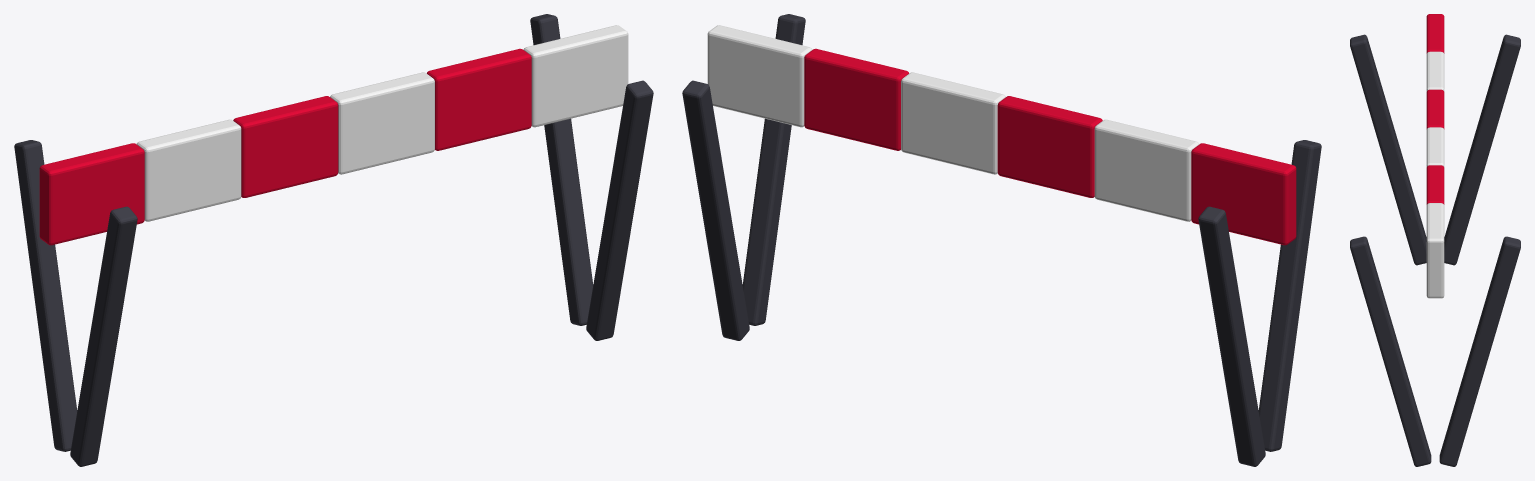
Rendered from Street_Barrier.fbx.
3 renders of one model, left to right at view 1: azimuth 30°, elevation 25°; view 2: azimuth 150°, elevation 25°; view 3: azimuth 270°, elevation 25°, orthographic. The views are drawn at different scales.
Visible parts, largest first — view 1: Street_Barrier; view 2: Street_Barrier; view 3: Street_Barrier.
Boxes of the visible parts, x1=… form: Street_Barrier: x1=14, y1=14, x2=653, y2=466; Street_Barrier: x1=682, y1=14, x2=1321, y2=466; Street_Barrier: x1=1350, y1=14, x2=1520, y2=466.
Size of the model in its own units: 1.8 by 0.8757 by 0.5728.
